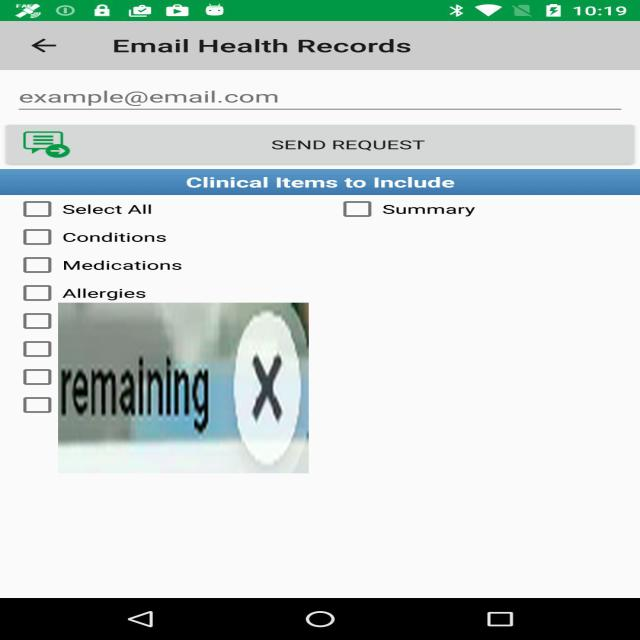misdirection: (58, 303, 309, 473)
